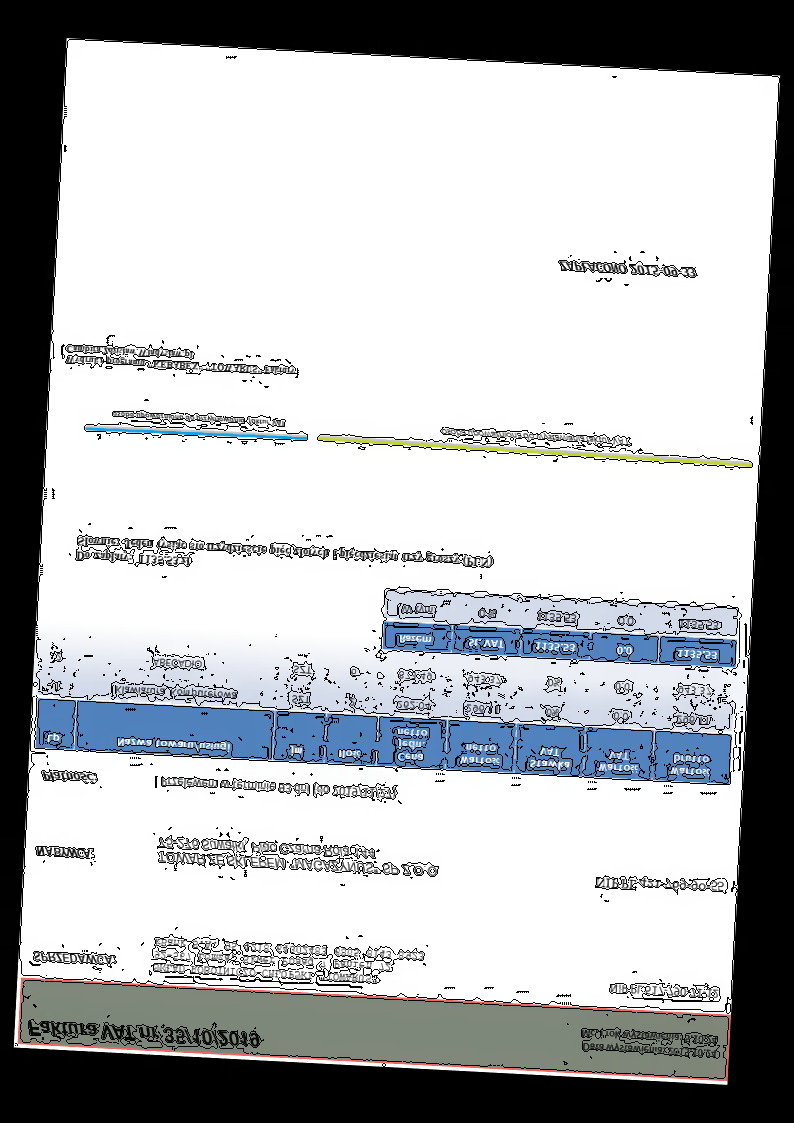Table: (34, 635, 736, 786), (381, 588, 741, 670)
TextBox: (72, 532, 497, 586), (150, 936, 425, 989), (155, 834, 446, 880), (62, 342, 300, 378), (25, 1017, 263, 1051), (159, 775, 396, 802), (578, 1027, 720, 1060), (439, 426, 634, 449), (110, 409, 287, 429), (593, 872, 726, 897), (556, 259, 697, 281), (607, 980, 721, 1002), (31, 948, 118, 968), (34, 843, 95, 861), (40, 769, 99, 786)
